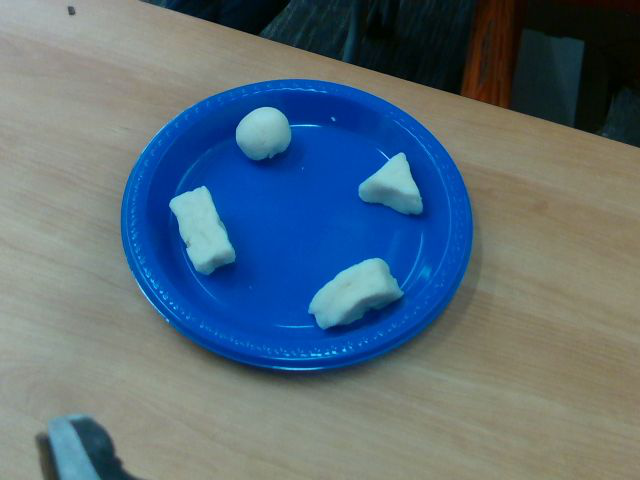mashed_potato: (308, 258, 404, 327), (169, 185, 235, 276), (358, 152, 423, 215), (236, 107, 292, 160)
